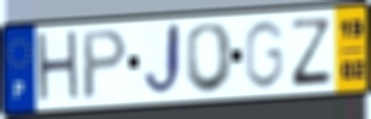G: (242, 18, 286, 91)
H: (34, 27, 82, 107)
J: (140, 20, 184, 100)
O: (183, 20, 236, 95)
P: (80, 26, 131, 103)
Z: (290, 17, 334, 89)
